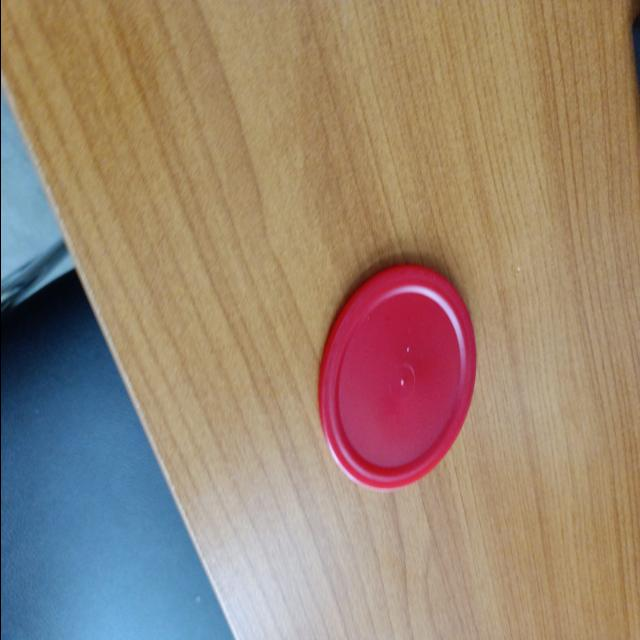chip: (316, 261, 478, 490)
